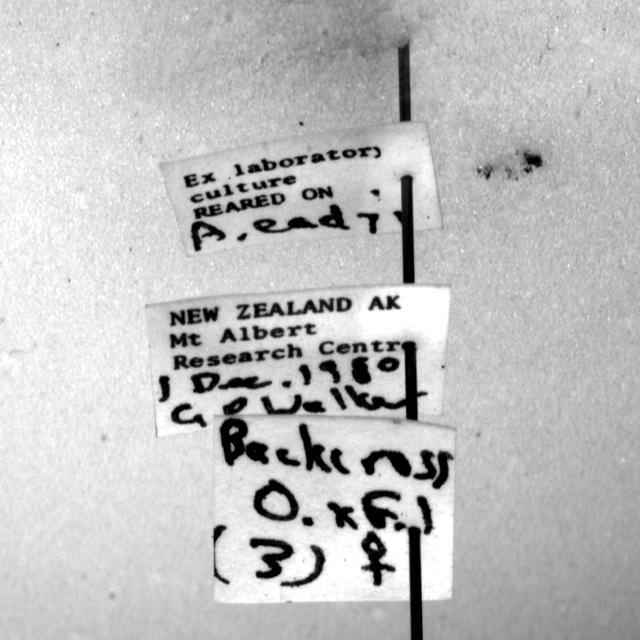hand_label: (214, 416, 455, 604)
mixed_label: (146, 285, 450, 437), (161, 122, 442, 257)
